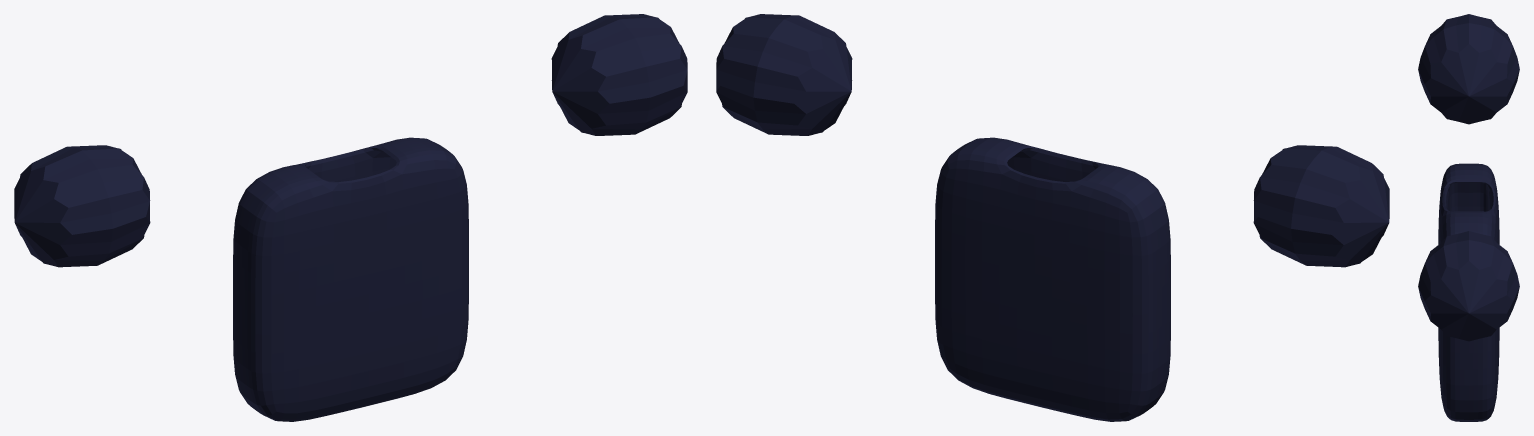
File: jersey.glb
3 renders of one model, left to right at view 1: azimuth 30°, elevation 25°; view 2: azimuth 150°, elevation 25°; view 3: azimuth 270°, elevation 25°, orthographic. The views are drawn at different scales.
Visible parts, largest first — view 1: jersey_torso, jersey_sleeve_left, jersey_sleeve_right; view 2: jersey_torso, jersey_sleeve_left, jersey_sleeve_right; view 3: jersey_torso, jersey_sleeve_right, jersey_sleeve_left.
Part boxes in pixels (bbox=[...]): jersey_torso: bbox=[233, 137, 468, 421]; jersey_sleeve_left: bbox=[14, 145, 150, 267]; jersey_sleeve_right: bbox=[551, 14, 687, 135]; jersey_torso: bbox=[935, 137, 1170, 421]; jersey_sleeve_left: bbox=[1253, 145, 1389, 267]; jersey_sleeve_right: bbox=[716, 14, 852, 135]; jersey_torso: bbox=[1438, 163, 1499, 421]; jersey_sleeve_right: bbox=[1418, 231, 1519, 341]; jersey_sleeve_left: bbox=[1418, 14, 1519, 124].
Bounding box in the file's own units: 1.14 × 0.5125 × 0.1804.
